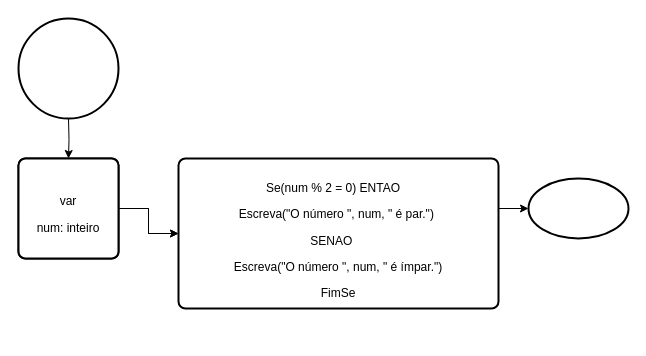
Image size: 646x356. Some labels were removed from this diagram. The centre of each missing label's shape, as x and y in pixels:
FimAlgoritmo: the point at 578,208
Início: the point at 68,68
